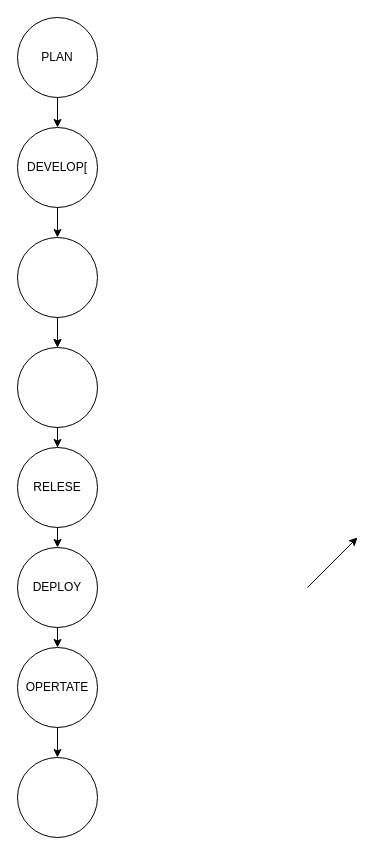
Image size: 383x855. Some labels were removed from this diagram. The shapes that lost their labels are listed below. From the top down, each one's box as (x1, y1, x2, y2) in pixels, then its label:
(16, 236, 98, 318): BUILD
(16, 346, 98, 428): TEST
(16, 756, 98, 838): MONITER
